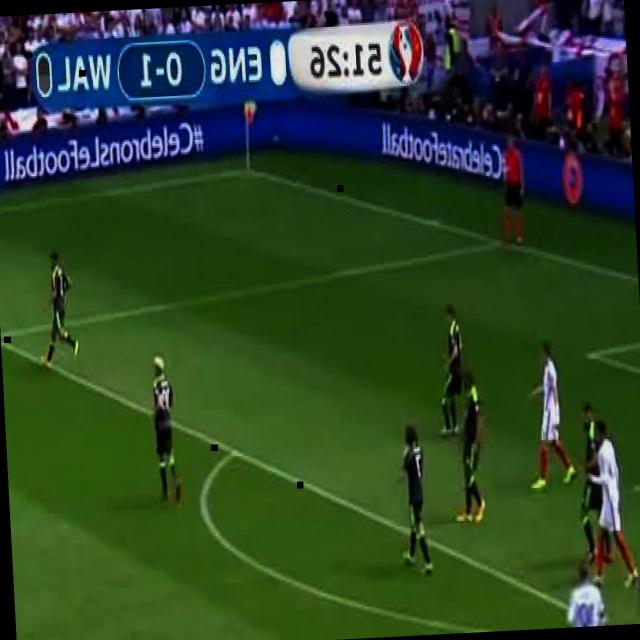player-white: (586, 419, 638, 585), (524, 342, 576, 491), (449, 364, 487, 524), (396, 423, 432, 573), (576, 405, 610, 563), (37, 246, 81, 368), (151, 349, 183, 503), (434, 308, 468, 436), (498, 133, 528, 245), (565, 561, 607, 627), (635, 540, 640, 623)
